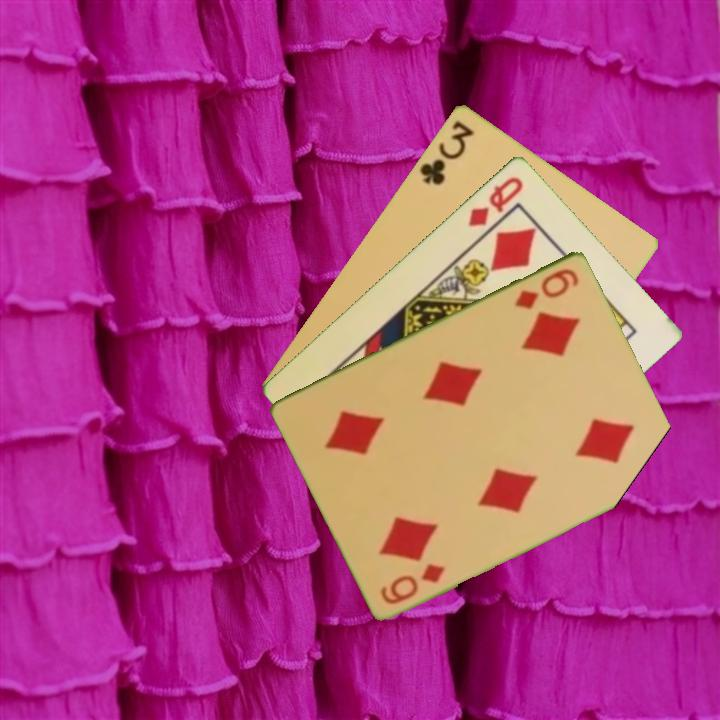3c: (415, 117, 477, 188)
6d: (376, 559, 449, 607), (511, 264, 582, 312)
Qd: (464, 172, 526, 229)
